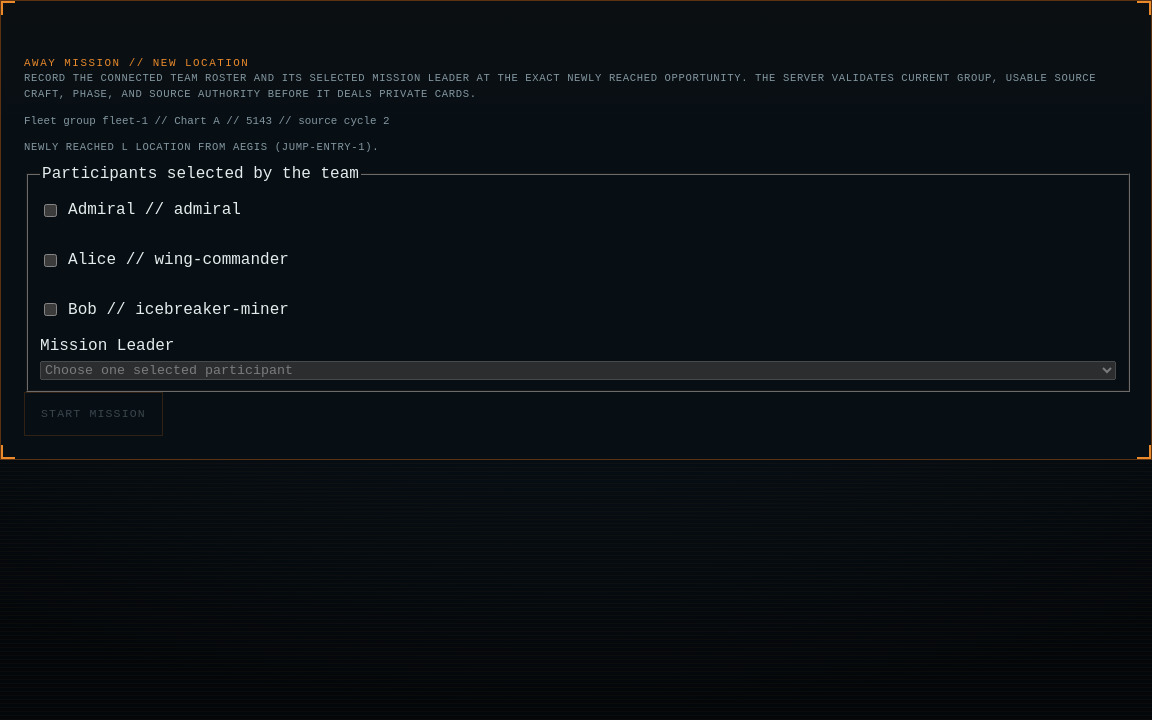
Scenario: does not treat a replayed stale revision receipt as a committed mission
Click the checkbox labelled "Alice // wing-commander": [50, 260] box [44, 254, 57, 266]
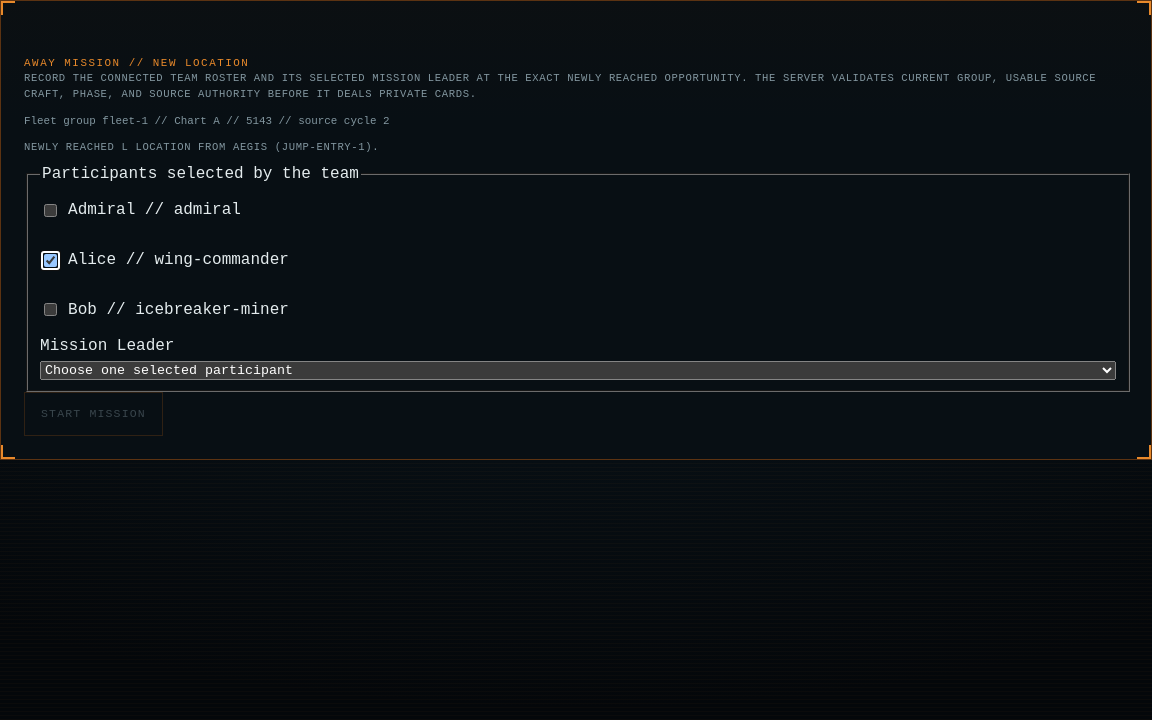
Select "Alice // wing-commander" in the dropdown labelled "Mission Leader": [578, 370] box [40, 361, 1116, 380]
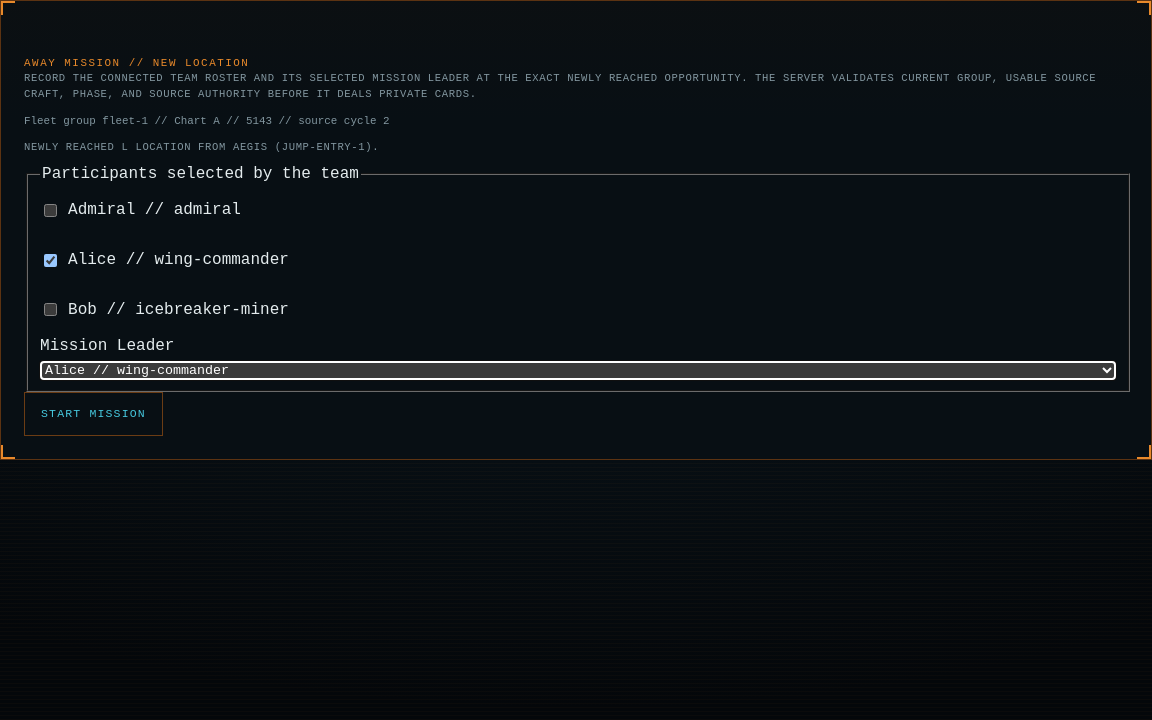
Click the button "Start mission": [93, 414] box [24, 392, 163, 436]
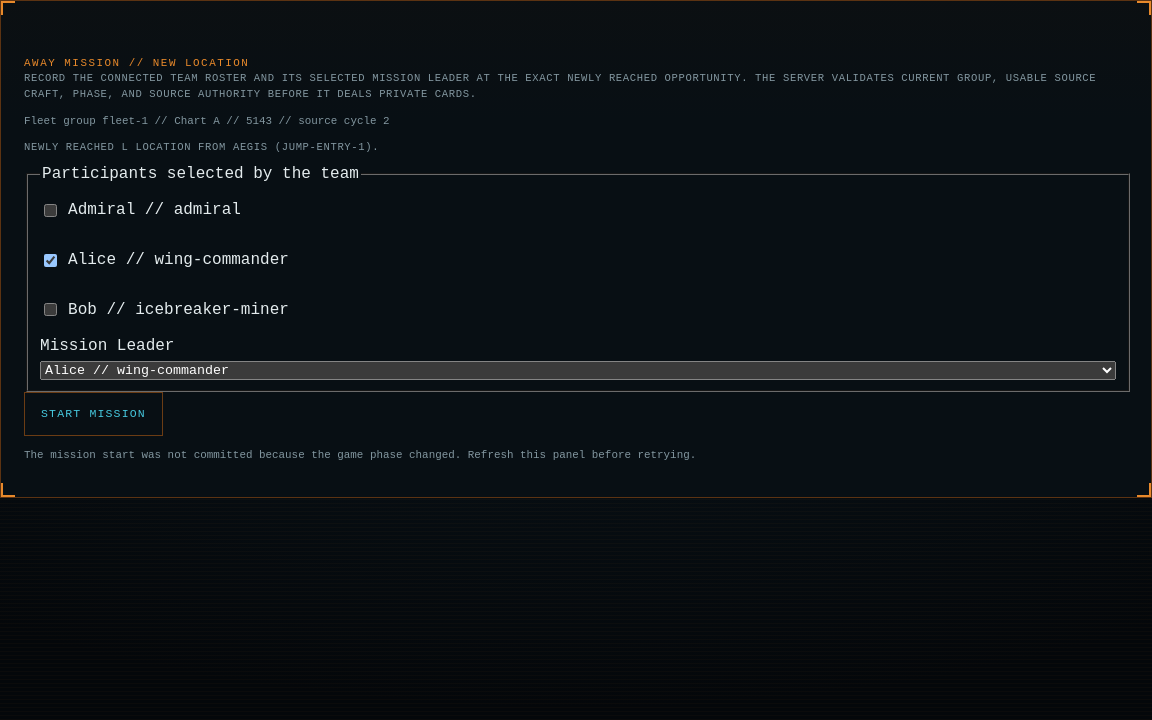
Expected: the text "Newly reached L location from aegis (jump-entry-1)." is shown, [24, 141, 379, 153]
Now the message named "Mission start result" shows "phase changed", box [24, 449, 696, 461]
